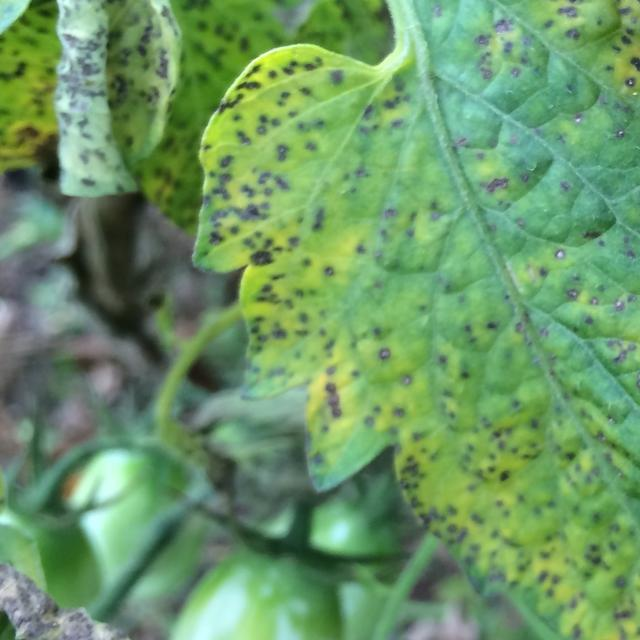Tomato Septoria leaf spot: (120, 0, 640, 640)
